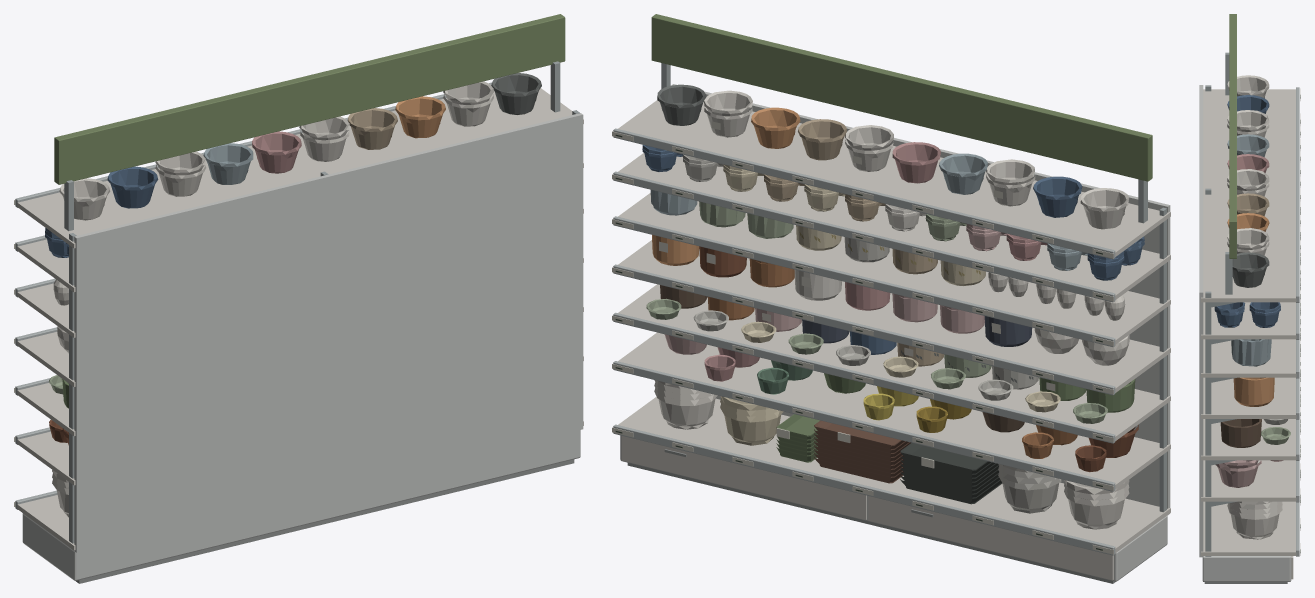
The model's file is pots.glb.
3 views of the same model, side by side, from view 1: azimuth 30°, elevation 25°; view 2: azimuth 150°, elevation 25°; view 3: azimuth 270°, elevation 25° (orthographic). The views are drawn at different scales.
Parts seen in each view (by area): view 1: DaisoGardenPots; view 2: DaisoGardenPots; view 3: DaisoGardenPots.
Boxes of the visible parts, bbox=[...] form: DaisoGardenPots: bbox=[14, 14, 583, 583]; DaisoGardenPots: bbox=[612, 14, 1170, 583]; DaisoGardenPots: bbox=[1199, 14, 1300, 583].
Bounding box in the file's own units: 3.05 × 2.47 × 0.6212.
